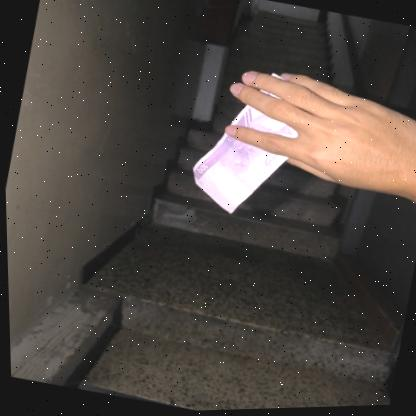one_hundred-back-vef: (180, 59, 311, 227)
